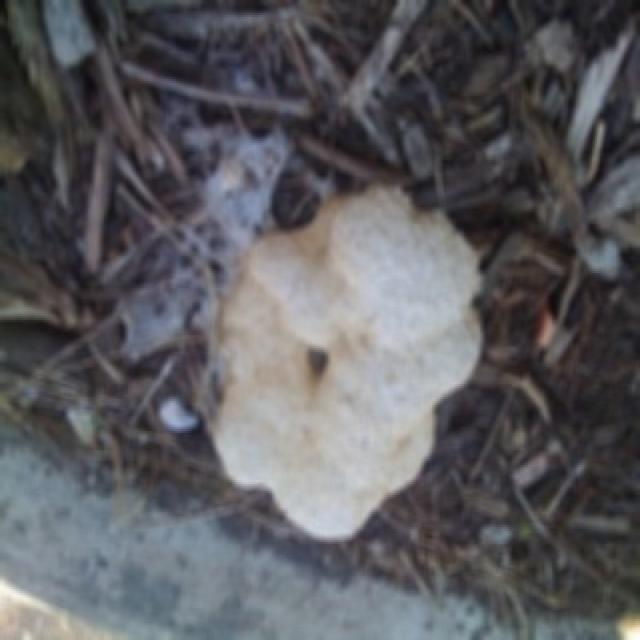Dog_vomit_slime_mold: (181, 200, 489, 536)
